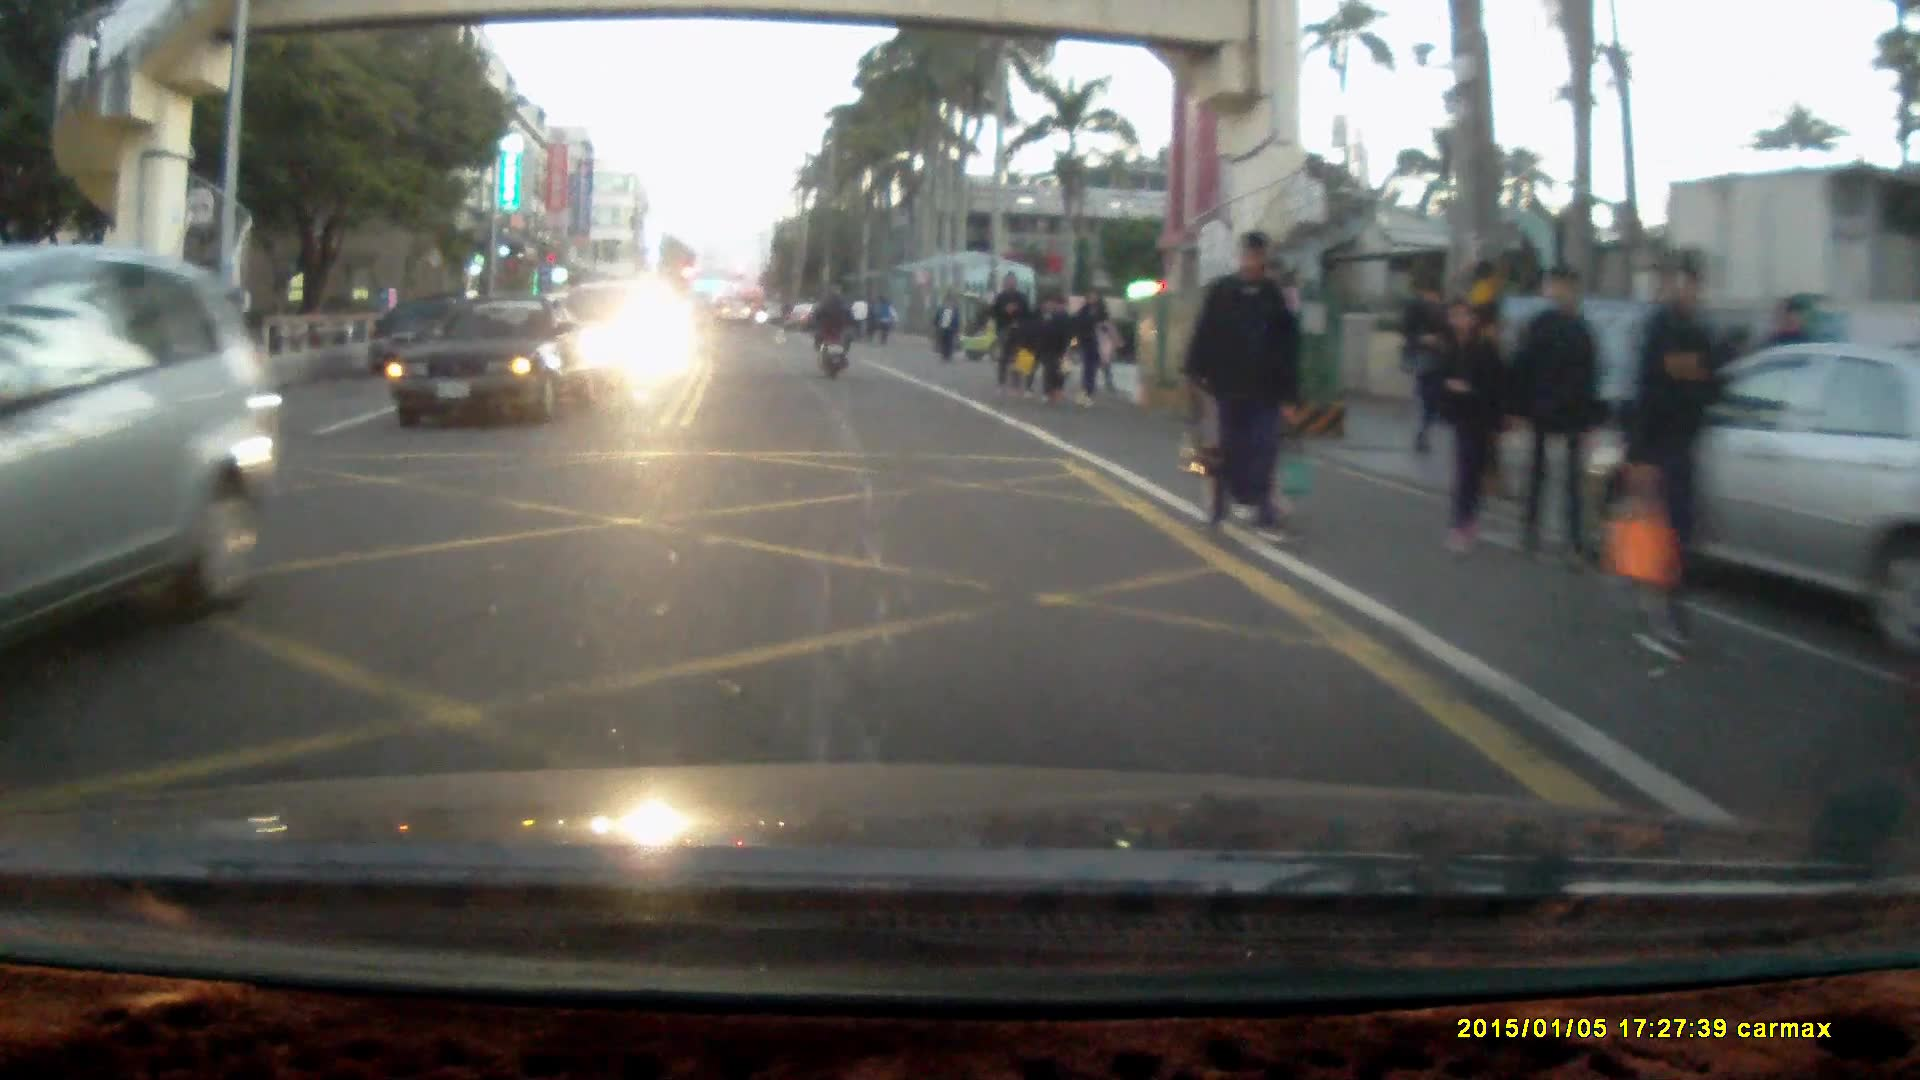pedestrian: (1620, 244, 1732, 666), (1182, 234, 1294, 547), (1510, 263, 1606, 573), (1433, 294, 1513, 560), (1401, 278, 1451, 465), (1067, 287, 1115, 409), (989, 270, 1031, 399), (1026, 294, 1070, 407), (934, 295, 958, 367)
rider: (812, 286, 854, 381)
vehicle: (1, 245, 281, 661), (1571, 336, 1920, 633), (382, 305, 609, 436)
